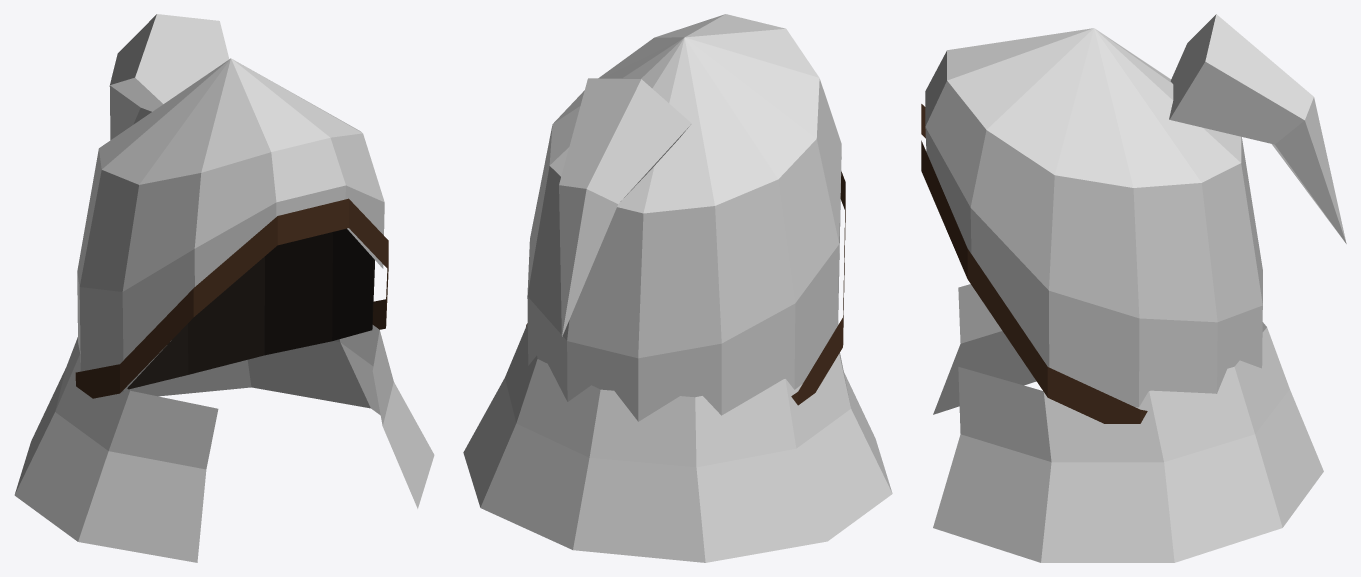
Rendered from armor_helmet_dex.glb.
3 views of the same model, side by side, from view 1: azimuth 30°, elevation 25°; view 2: azimuth 150°, elevation 25°; view 3: azimuth 270°, elevation 25° (orthographic). The views are drawn at different scales.
Parts seen in each view (by area): view 1: armor_helmet_dex; view 2: armor_helmet_dex; view 3: armor_helmet_dex.
Part boxes in pixels (left/top/right/bottom): armor_helmet_dex: left=14, top=14, right=434, bottom=562; armor_helmet_dex: left=463, top=14, right=892, bottom=562; armor_helmet_dex: left=921, top=14, right=1346, bottom=562.
Size of the model in its own units: 0.3804 by 0.4357 by 0.374.
